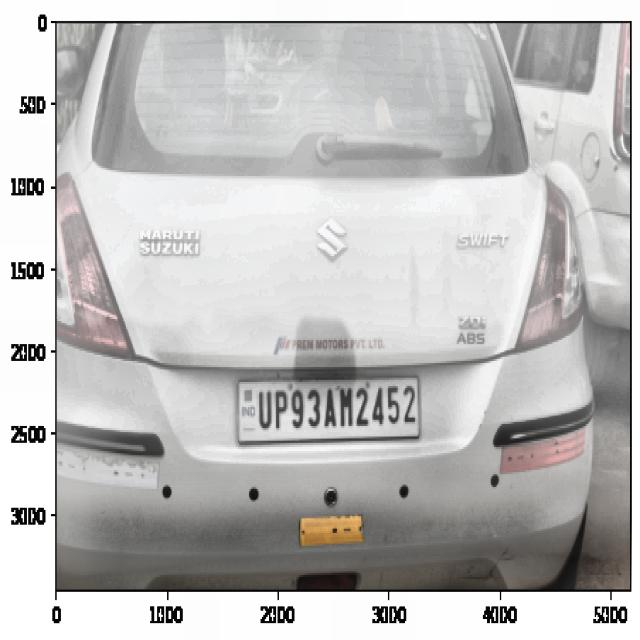license_plate: (246, 374, 422, 439)
